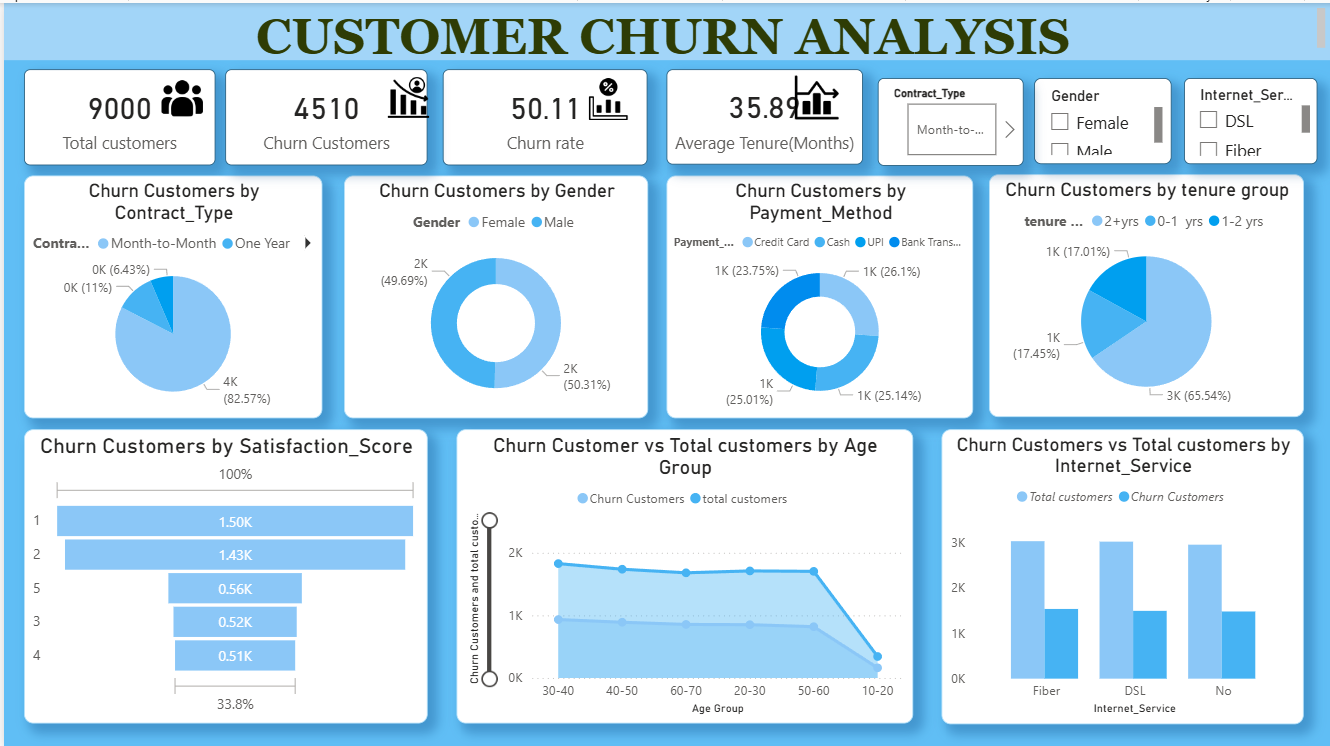

The dashboard page shown, as its layout file describes it:
{"tool":"powerbi","page":{"name":"Page 1","canvas":[1280,720],"ordinal":0},"visuals":[{"type":"textbox","box":[0,0,1280.3,64.5],"z":0},{"type":"card","fields":{"Values":["Copy_of_Telco_customer_churn.total customers"]},"box":[19.3,71.2,182.2,83.2],"z":1000},{"type":"card","fields":{"Values":["Copy_of_Telco_customer_churn.churn rate"]},"box":[423.5,71.2,187,83.2],"z":2000},{"type":"donutChart","fields":{"Category":["Copy_of_Telco_customer_churn.Gender"],"Y":["Copy_of_Telco_customer_churn.Churn Customers"]},"box":[328,166,293.7,234.6],"z":3000},{"type":"pieChart","fields":{"Category":["Copy_of_Telco_customer_churn.Contract_Type"],"Y":["Copy_of_Telco_customer_churn.Churn Customers"]},"box":[19.2,166,288.2,234.6],"z":4000},{"type":"donutChart","fields":{"Y":["Copy_of_Telco_customer_churn.Churn Customers"],"Category":["Copy_of_Telco_customer_churn.Payment_Method"]},"box":[639.5,166,296.4,234.6],"z":5000},{"type":"pieChart","fields":{"Y":["Copy_of_Telco_customer_churn.Churn Customers"],"Category":["Copy_of_Telco_customer_churn.tenure group"]},"box":[950.7,165.3,304,234],"z":6000},{"type":"funnel","fields":{"Y":["Copy_of_Telco_customer_churn.Churn Customers"],"Category":["Copy_of_Telco_customer_churn.Satisfaction_Score"]},"box":[19.2,411.7,389.7,284],"z":7000},{"type":"areaChart","title":"Churn Customer vs Total customers by Age Group","fields":{"Category":["Copy_of_Telco_customer_churn.Age Group"],"Y":["Copy_of_Telco_customer_churn.Churn Customers","Copy_of_Telco_customer_churn.total customers"]},"box":[436.4,411.7,440.5,284],"z":8000},{"type":"clusteredColumnChart","title":" Churn Customers vs Total customers by Internet_Service","fields":{"Category":["Copy_of_Telco_customer_churn.Internet_Service"],"Y":["Copy_of_Telco_customer_churn.total customers","Copy_of_Telco_customer_churn.Churn Customers"]},"box":[904.8,411.4,349.9,284.7],"z":9000},{"type":"card","fields":{"Values":["Copy_of_Telco_customer_churn.Churn Customers"]},"box":[217.2,71.2,191.8,83.2],"z":10000},{"type":"card","fields":{"Values":["Avg(Copy_of_Telco_customer_churn.Tenure_Months)"]},"box":[621.3,71.2,187,82],"z":11000},{"type":"slicer","fields":{"Values":["Copy_of_Telco_customer_churn.Gender"]},"box":[994.1,72.4,132.7,83.2],"z":12000},{"type":"slicer","fields":{"Values":["Copy_of_Telco_customer_churn.Internet_Service"]},"box":[1138.9,72.4,129.1,83.2],"z":13000},{"type":"slicer","fields":{"Values":["Copy_of_Telco_customer_churn.Contract_Type"]},"box":[826.4,72.4,158,83.2],"z":14000},{"type":"image","box":[152,71.2,39.8,41],"z":14001},{"type":"image","box":[357.1,70,66.4,42.2],"z":14002},{"type":"image","box":[545.3,71.2,76,43.4],"z":14003},{"type":"image","box":[760.1,70,48.3,42.2],"z":14004}]}

Visuals, with their boxes in screenshot pixels (x1, y1, x2, y2), scaled from the page's 1280x720 canvas onto the 1330x746 screenshot:
textbox: select_region(0, 0, 1329, 67)
card - Copy_of_Telco_customer_churn.total customers: select_region(20, 74, 209, 160)
card - Copy_of_Telco_customer_churn.churn rate: select_region(440, 74, 634, 160)
donutChart - Copy_of_Telco_customer_churn.Gender x Copy_of_Telco_customer_churn.Churn Customers: select_region(341, 172, 646, 415)
pieChart - Copy_of_Telco_customer_churn.Contract_Type x Copy_of_Telco_customer_churn.Churn Customers: select_region(20, 172, 319, 415)
donutChart - Copy_of_Telco_customer_churn.Churn Customers x Copy_of_Telco_customer_churn.Payment_Method: select_region(664, 172, 972, 415)
pieChart - Copy_of_Telco_customer_churn.Churn Customers x Copy_of_Telco_customer_churn.tenure group: select_region(988, 171, 1304, 414)
funnel - Copy_of_Telco_customer_churn.Churn Customers x Copy_of_Telco_customer_churn.Satisfaction_Score: select_region(20, 427, 425, 721)
"Churn Customer vs Total customers by Age Group" areaChart: select_region(453, 427, 911, 721)
" Churn Customers vs Total customers by Internet_Service" clusteredColumnChart: select_region(940, 426, 1304, 721)
card - Copy_of_Telco_customer_churn.Churn Customers: select_region(226, 74, 425, 160)
card - Avg(Copy_of_Telco_customer_churn.Tenure_Months): select_region(646, 74, 840, 159)
slicer - Copy_of_Telco_customer_churn.Gender: select_region(1033, 75, 1171, 161)
slicer - Copy_of_Telco_customer_churn.Internet_Service: select_region(1183, 75, 1318, 161)
slicer - Copy_of_Telco_customer_churn.Contract_Type: select_region(859, 75, 1023, 161)
image: select_region(158, 74, 199, 116)
image: select_region(371, 73, 440, 116)
image: select_region(567, 74, 646, 119)
image: select_region(790, 73, 840, 116)
